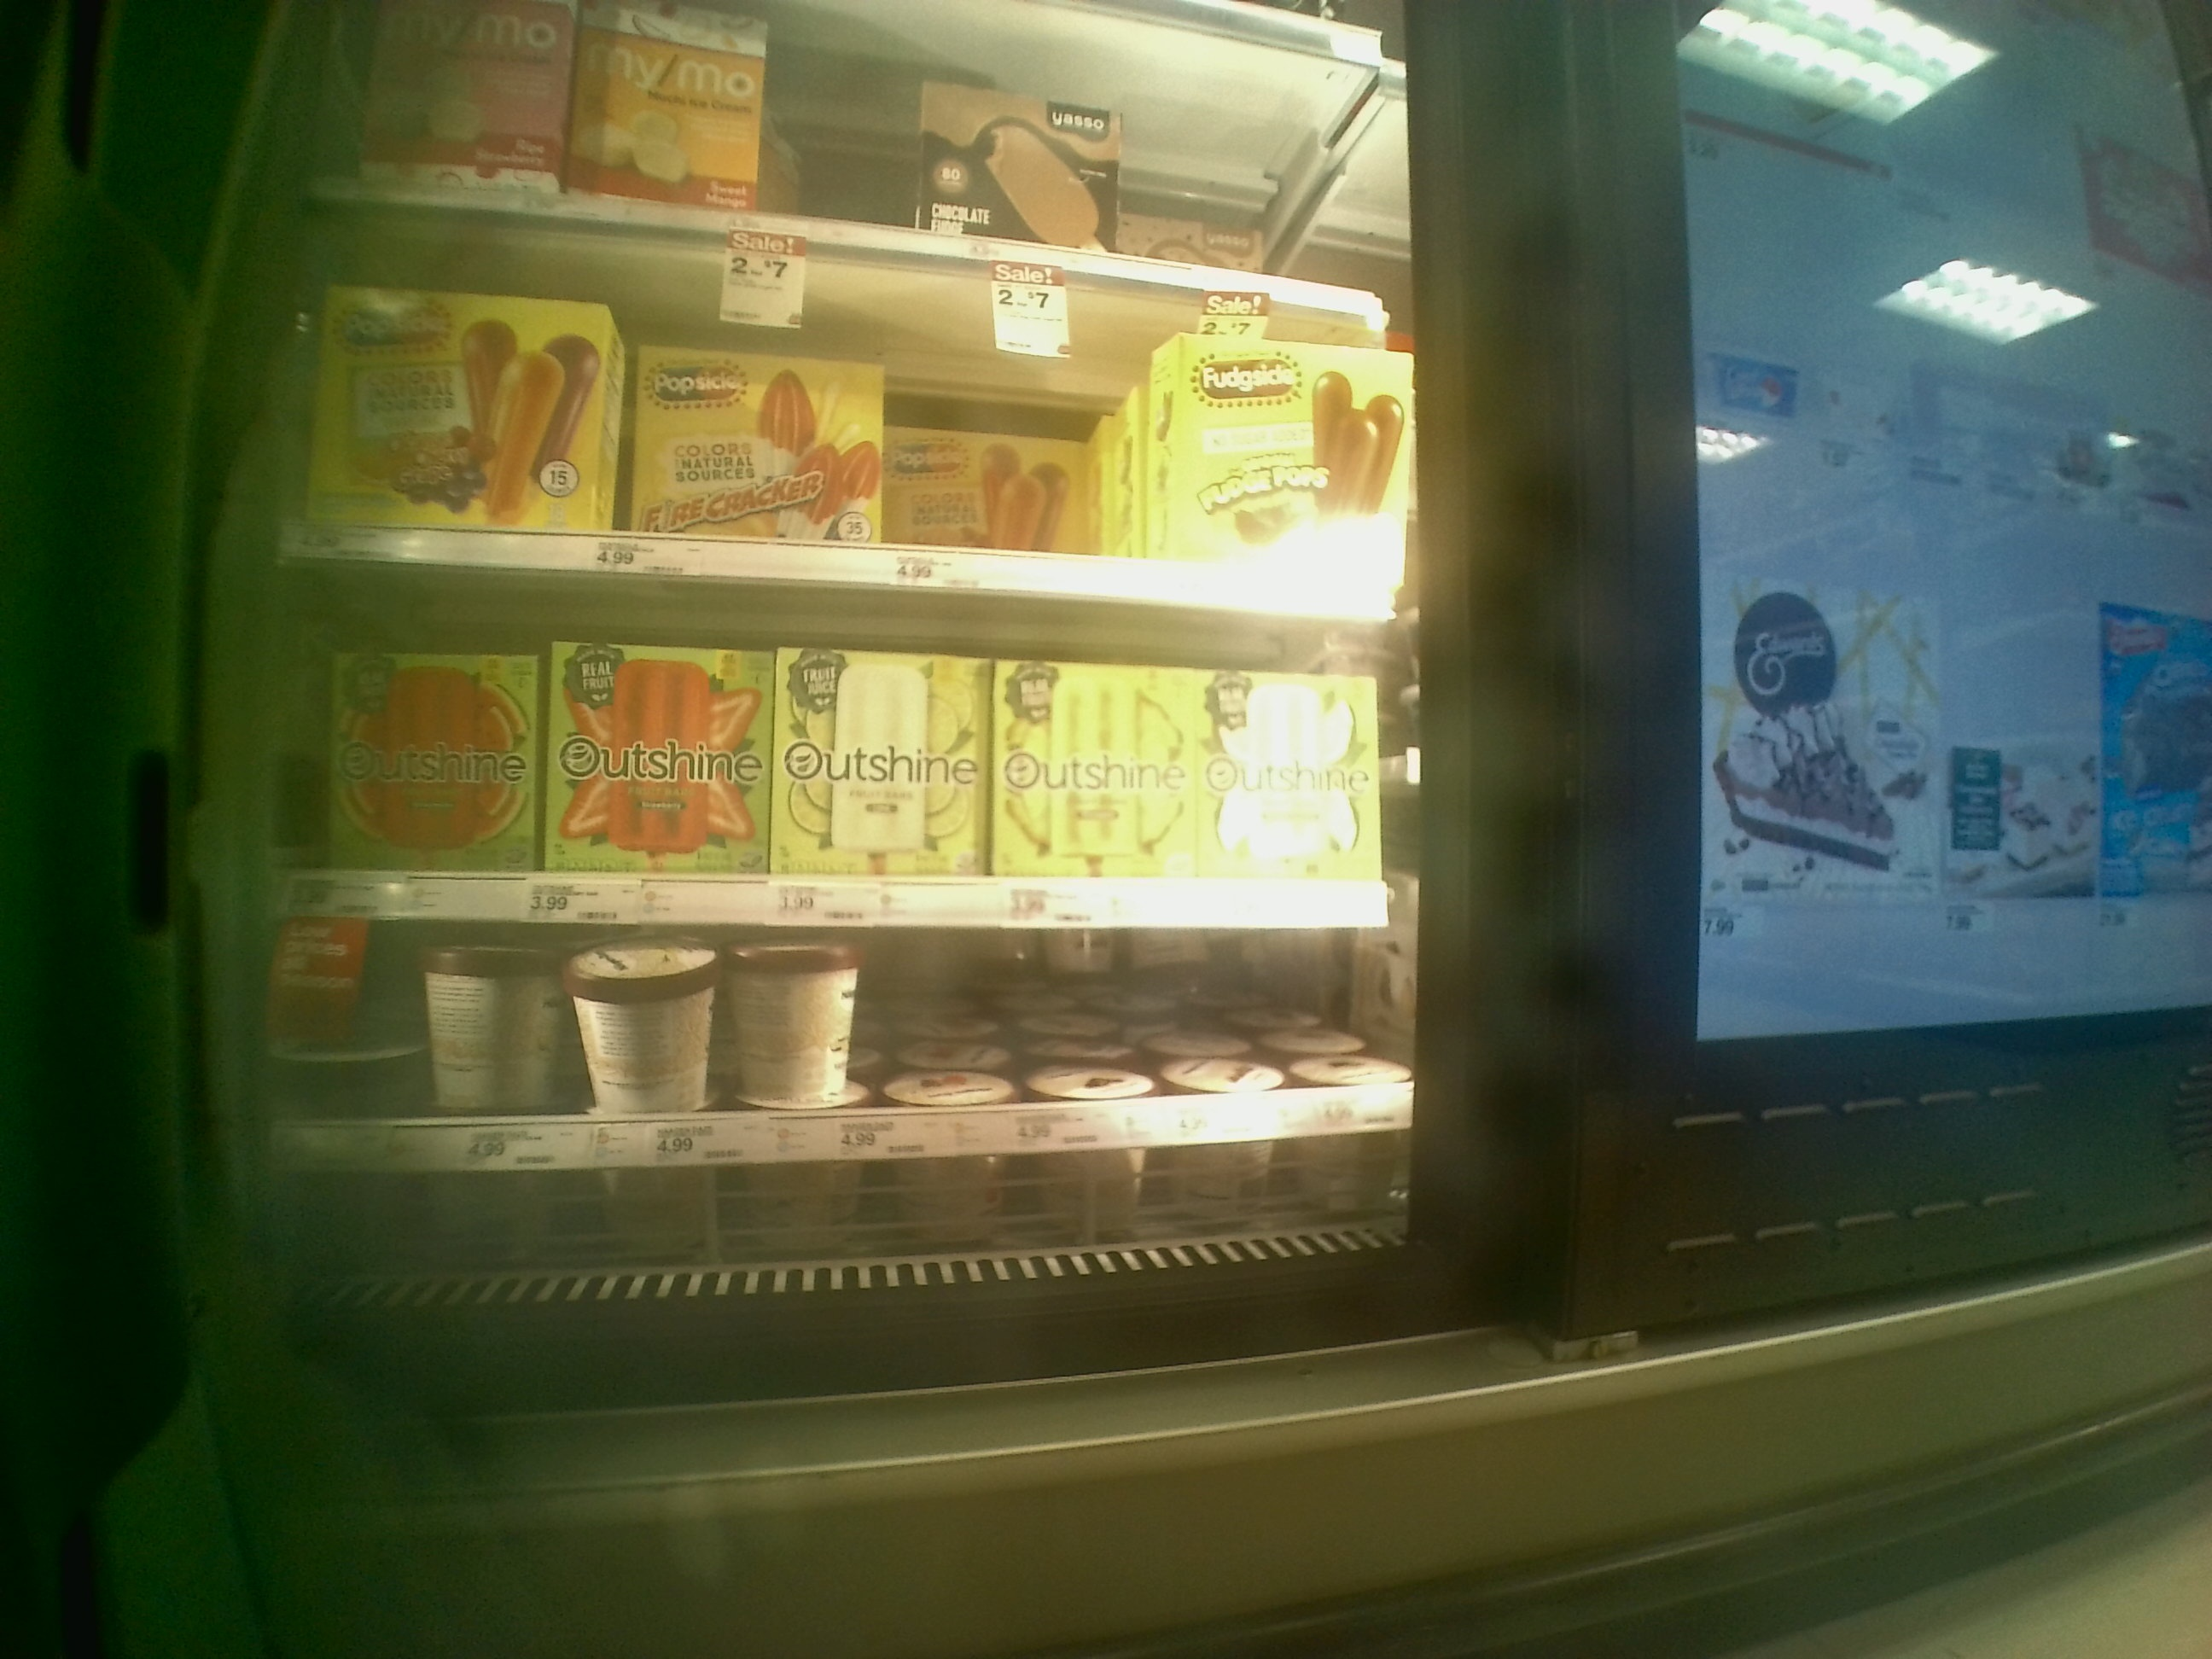ice-cream-shelf: (289, 558, 1413, 924), (280, 913, 1413, 1162)
